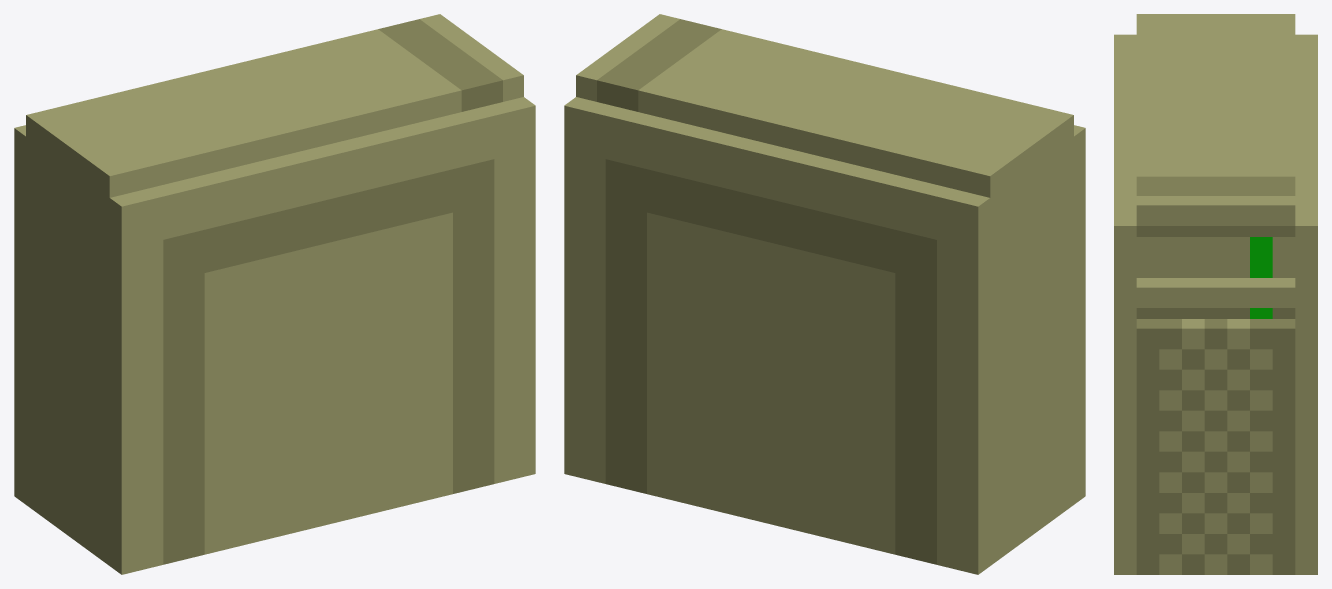
Rendered from torre.obj.
3 renders of one model, left to right at view 1: azimuth 30°, elevation 25°; view 2: azimuth 150°, elevation 25°; view 3: azimuth 270°, elevation 25°, orthographic. The views are drawn at different scales.
Parts seen in each view (by area): view 1: torre; view 2: torre; view 3: torre.
Part boxes in pixels (x1,y1,x2,y2): torre: (14, 14, 535, 574); torre: (564, 14, 1085, 574); torre: (1114, 14, 1317, 574).
Size of the model in its own units: 20 by 18 by 9.
1 material, 1 textured.
